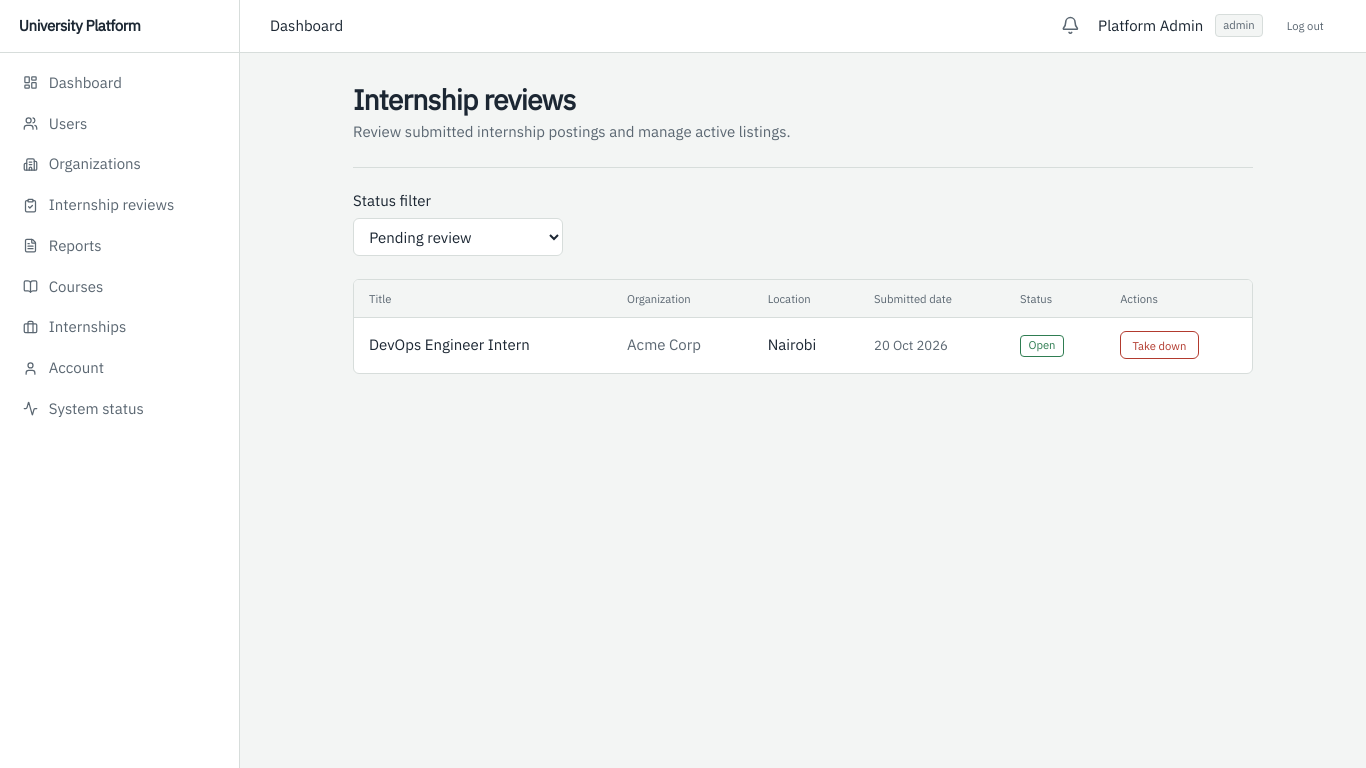
Test case: AdminInternshipReviewsPage › updates the row status in-place after takedown action without page reload
The image size is (1366, 768).
Expected: the text "DevOps Engineer Intern" is shown, [369,335,530,354]
Click the button "Take down".
click(1159, 345)  # box [1120,331,1199,359]
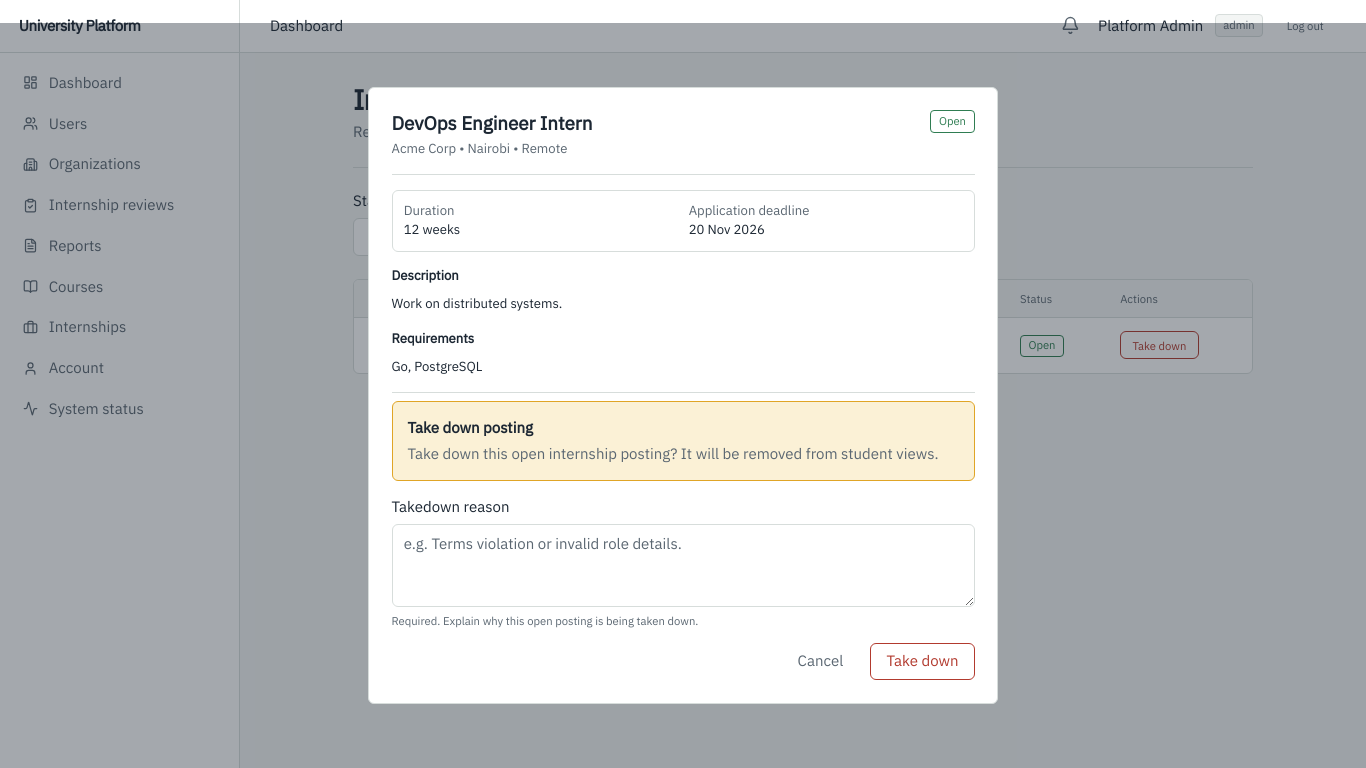
Type "Terms violation" into the text box labelled "Takedown reason".
click(683, 566); type("Terms violation")  # box [392,524,974,607]
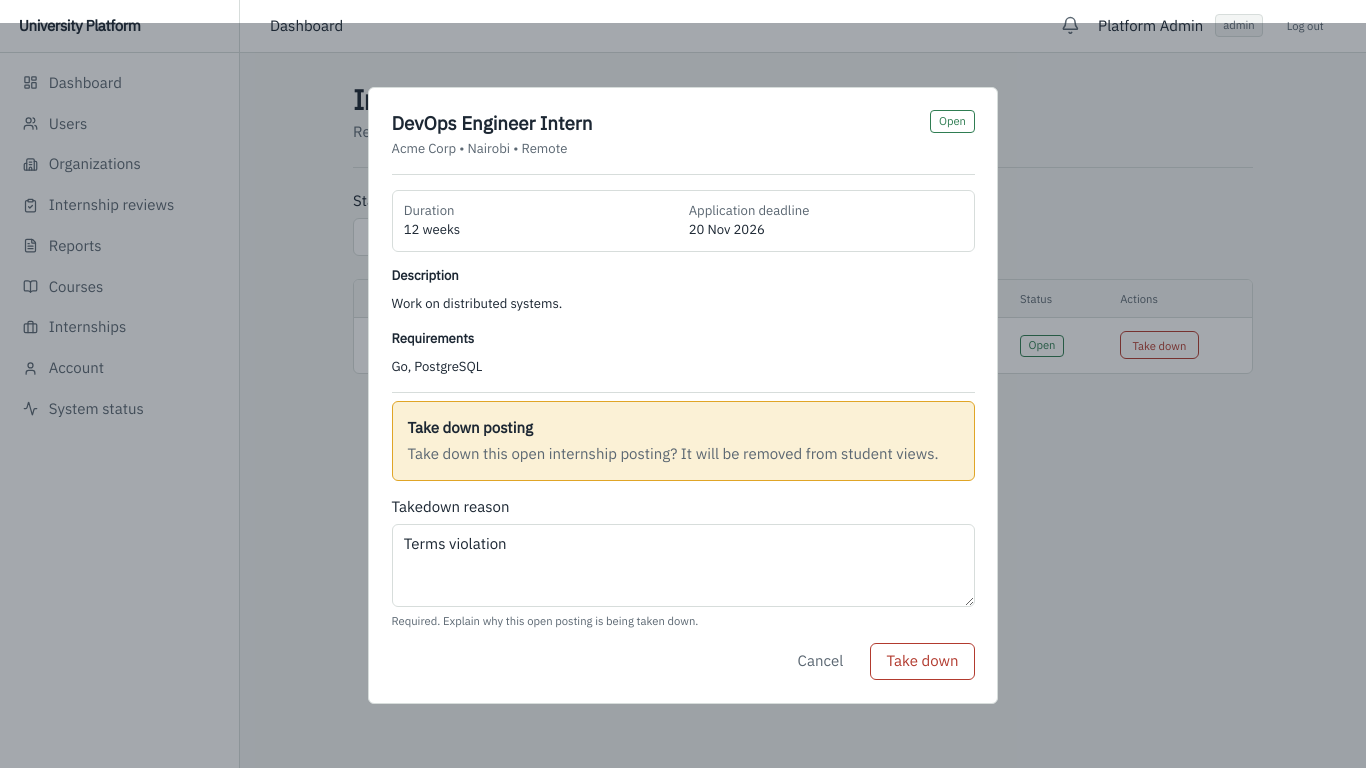
Click the button "Take down".
click(922, 661)  # box [870,643,974,680]
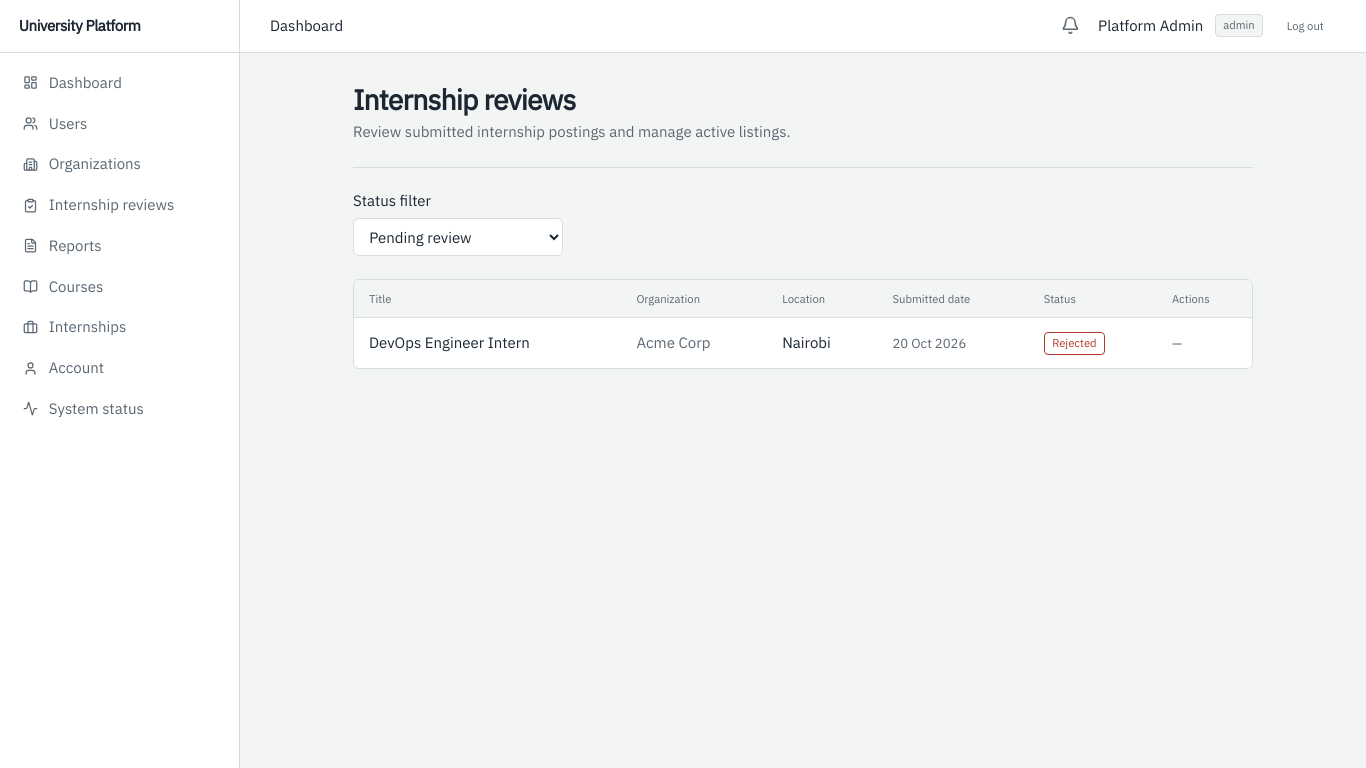
Expected: the button "Take down" is gone
